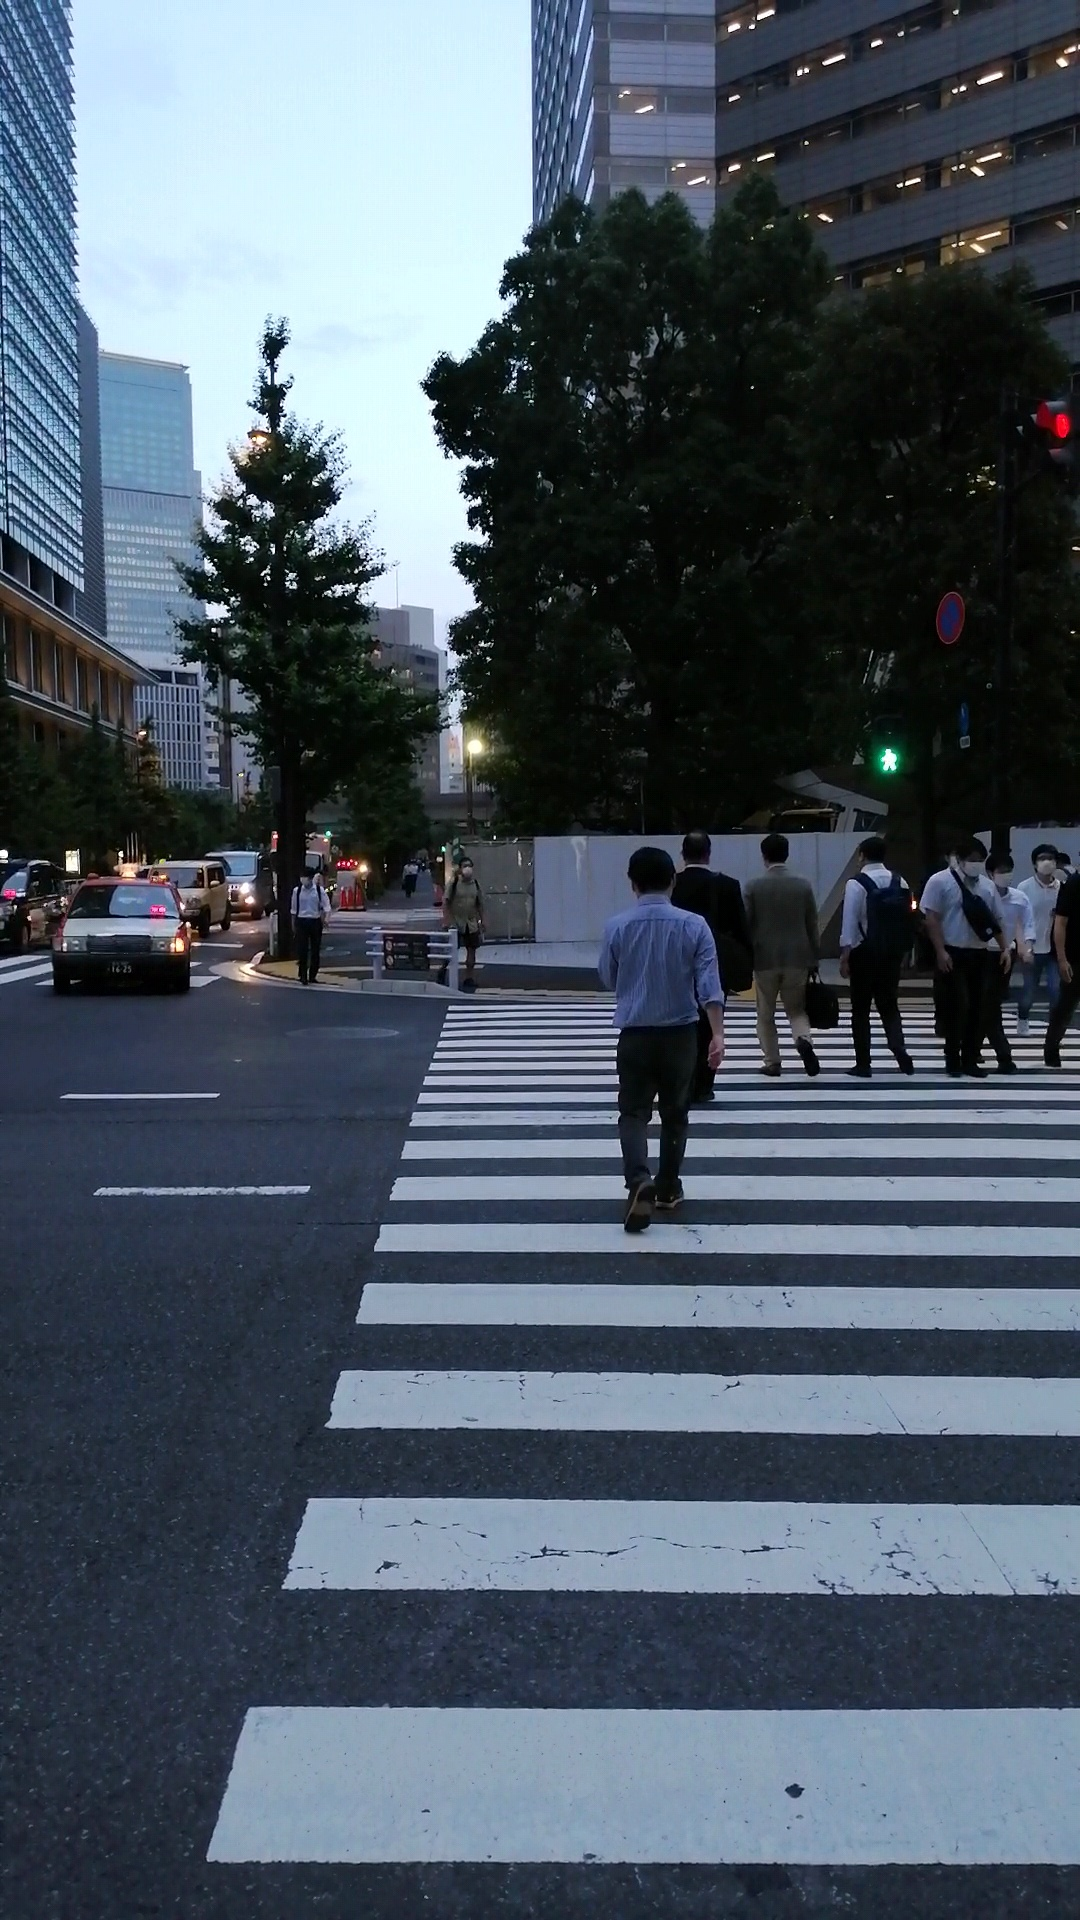green: (868, 715, 906, 781)
